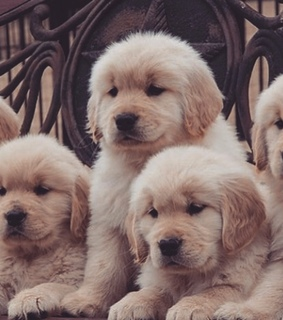dog: (111, 144, 279, 320), (72, 26, 237, 162), (1, 133, 93, 319), (250, 73, 283, 180)
